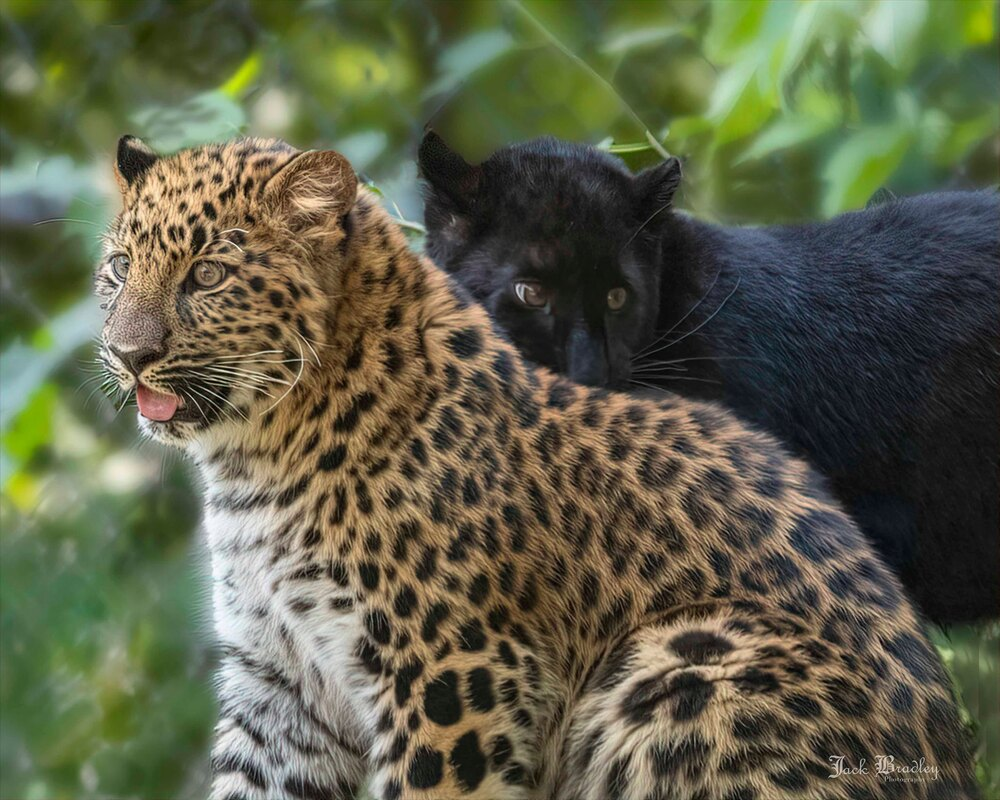amur_leopard: (71, 116, 412, 474)
